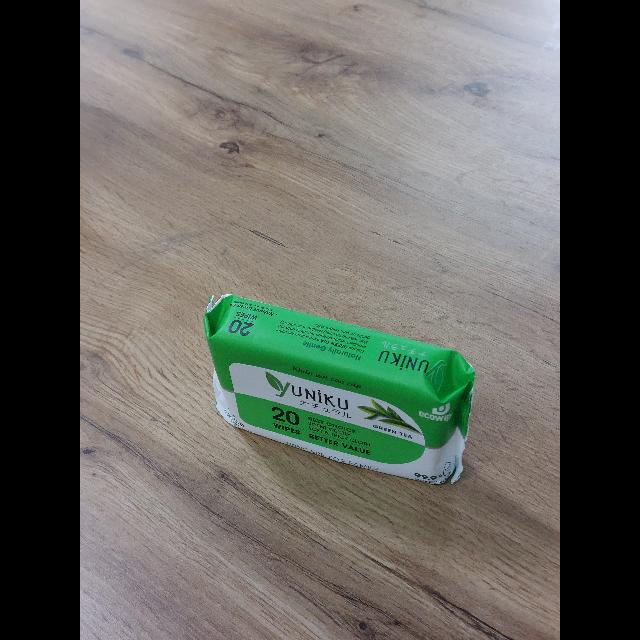khan_giay: (202, 294, 476, 488)
